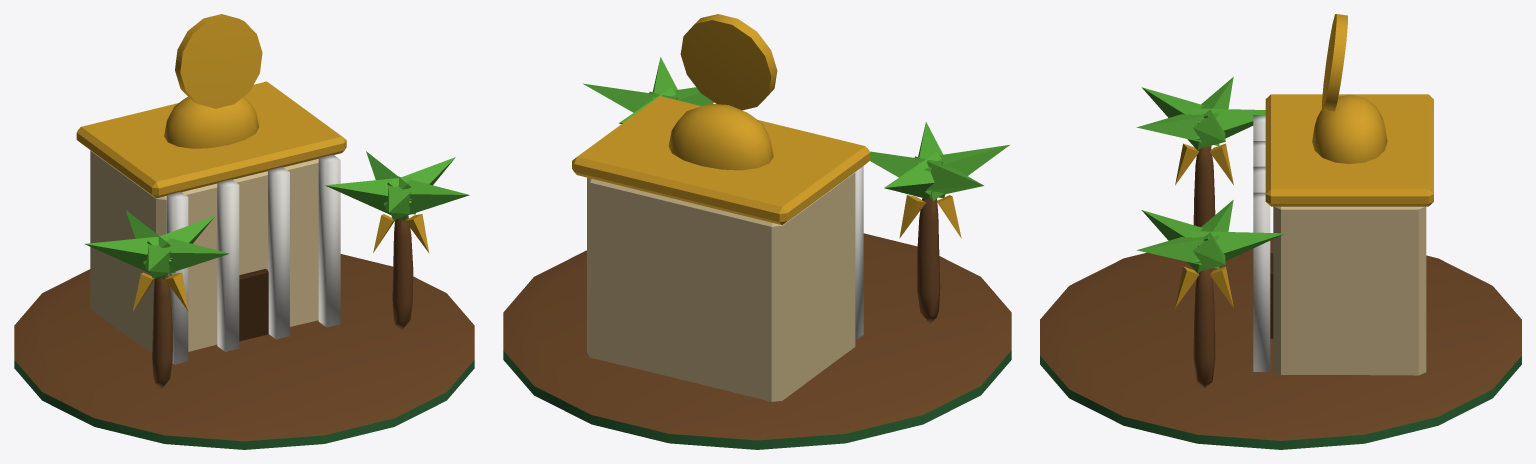
The picture shows the model from 3 angles, left to right: view 1: azimuth 30°, elevation 25°; view 2: azimuth 150°, elevation 25°; view 3: azimuth 270°, elevation 25°; orthographic projection. The views are drawn at different scales.
Visible parts, largest first — view 1: fazenda_0_base; view 2: fazenda_0_base; view 3: fazenda_0_base.
Boxes of the visible parts, left/top/right/bottom form: fazenda_0_base: left=14, top=14, right=474, bottom=449; fazenda_0_base: left=503, top=14, right=1011, bottom=449; fazenda_0_base: left=1040, top=14, right=1521, bottom=449.
Size of the model in its own units: 1.28 by 0.9504 by 1.26.
